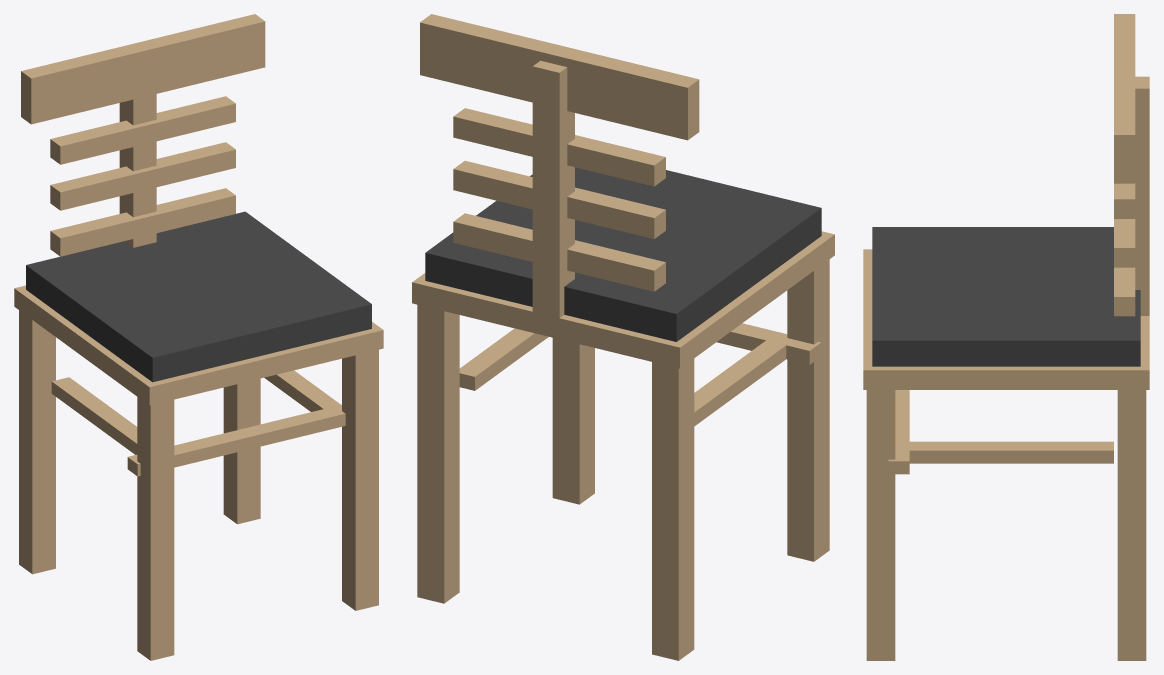
The model's file is chair.gltf.
The picture shows the model from 3 angles, left to right: view 1: azimuth 30°, elevation 25°; view 2: azimuth 150°, elevation 25°; view 3: azimuth 270°, elevation 25°; orthographic projection. The views are drawn at different scales.
Size of the model in its own units: 0.8 by 1.62 by 0.8.
